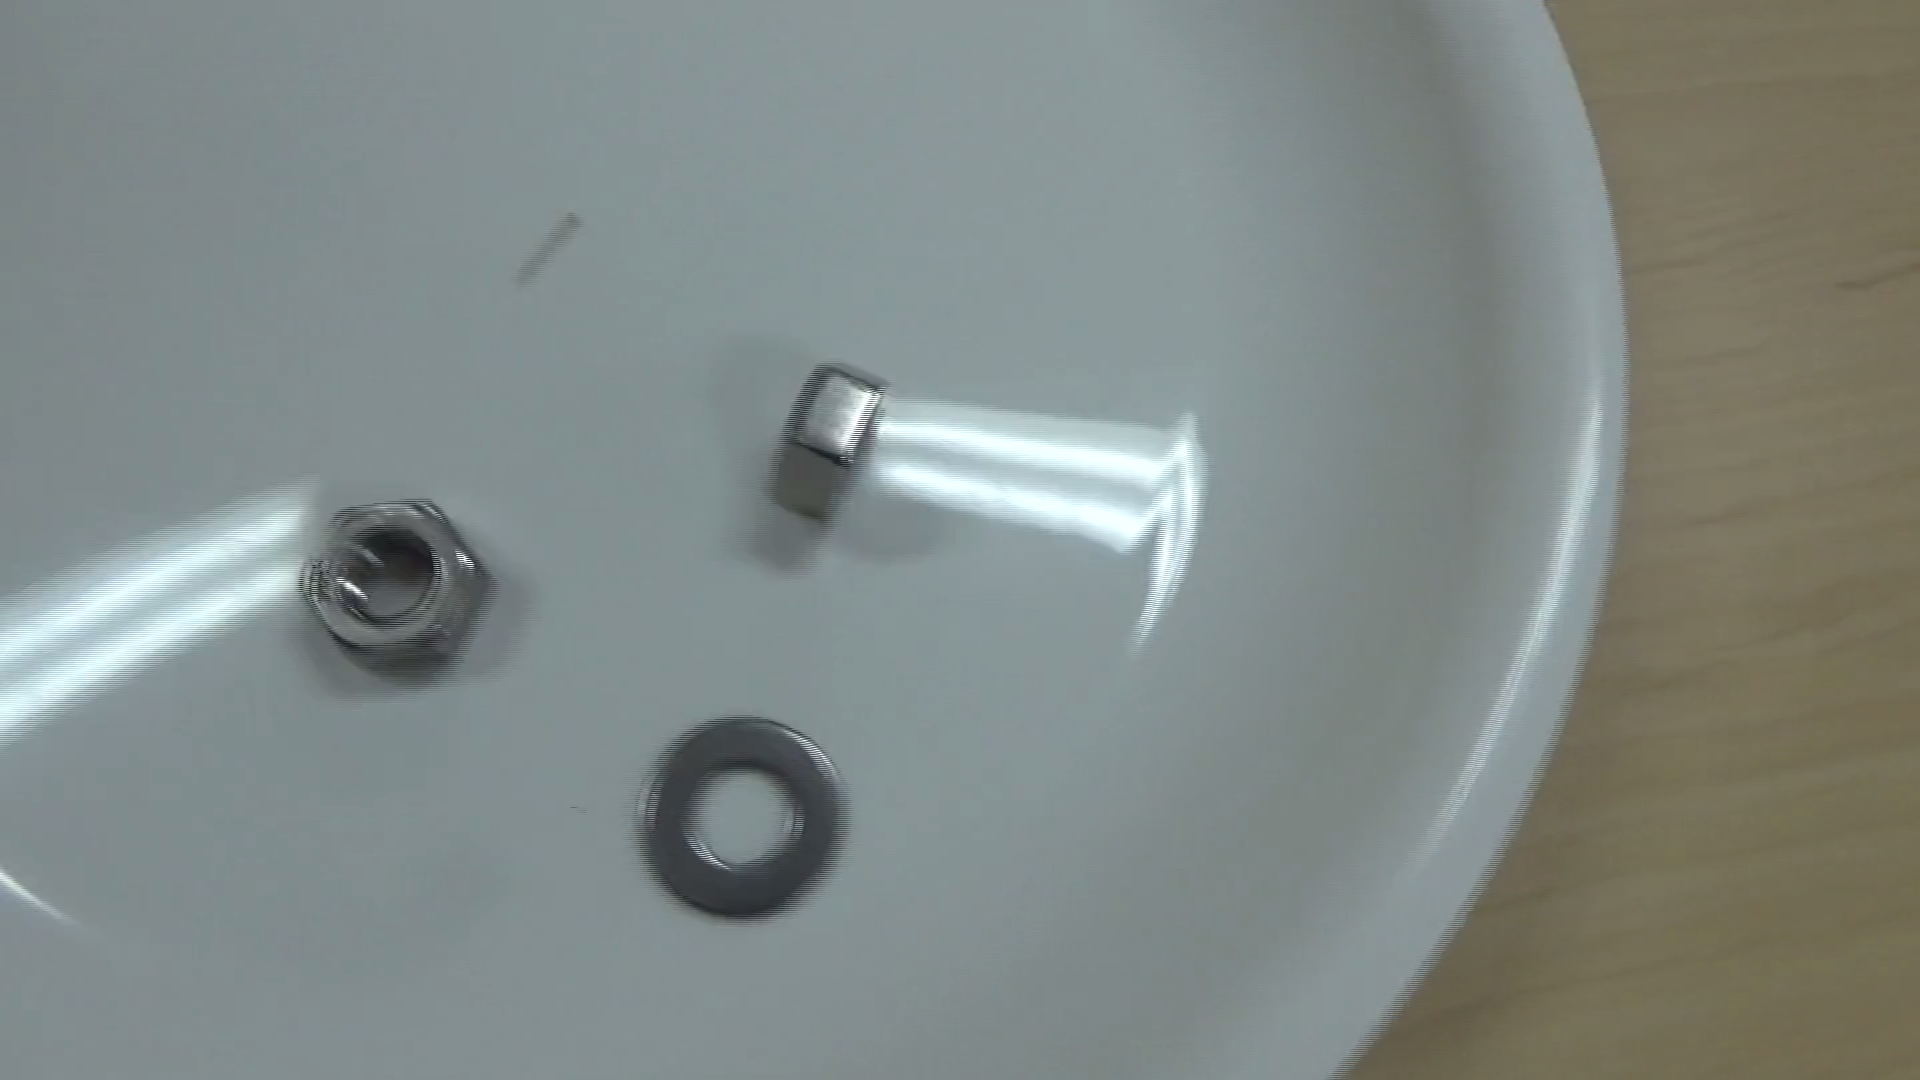nut: (291, 488, 493, 678), (764, 356, 887, 525)
washer: (638, 705, 848, 920)
